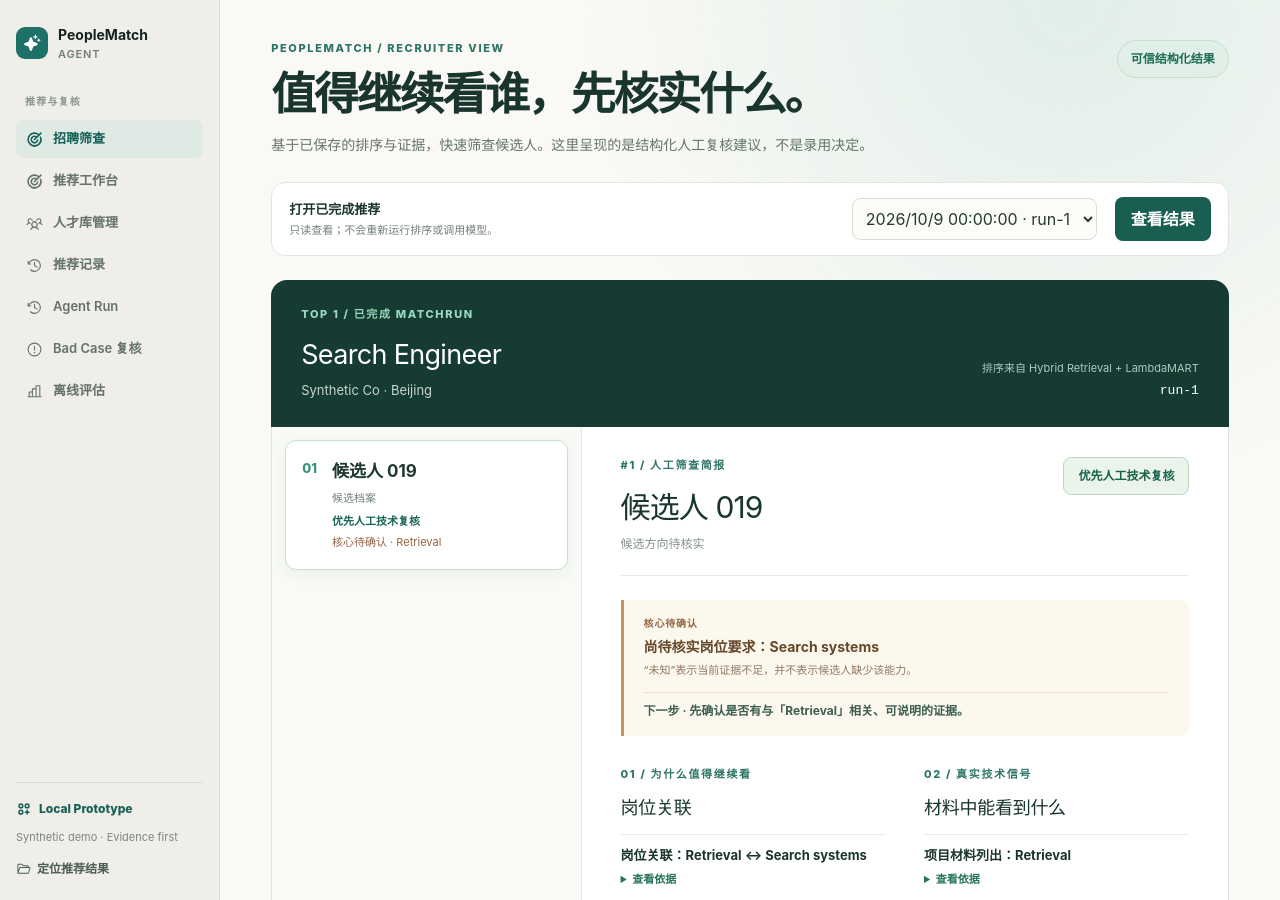
Test: Recruiter View › keeps source drill-down readable when an optional display profile is missing
This screenshot has width=1280, height=900.
Expected: the heading "Search Engineer" is shown, [301, 335, 501, 376]
Step 1. Click the heading "查看依据" below "岗位关联：Retrieval ↔ Search systems" → (654, 879), box [632, 872, 676, 886]
(page scrolled)
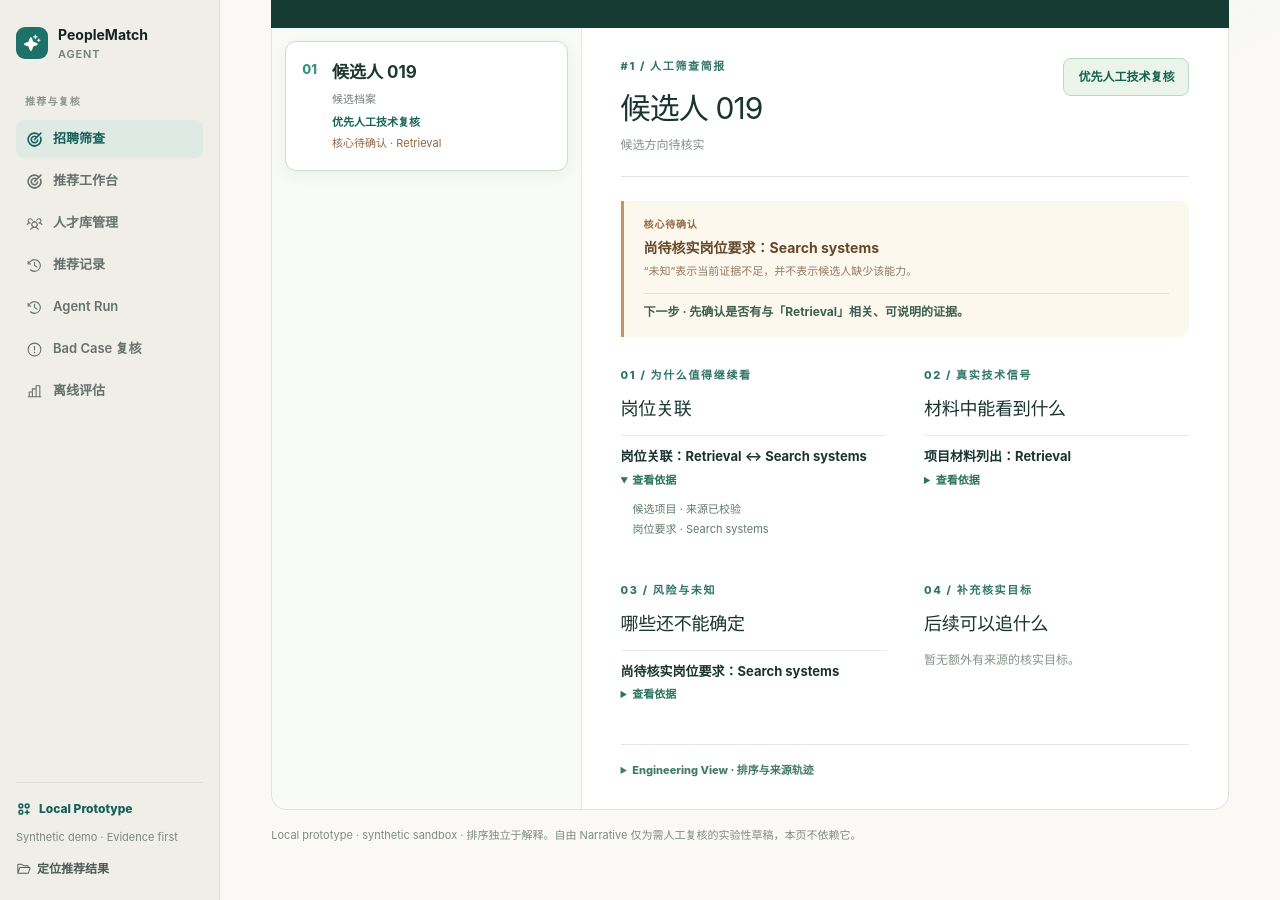
Now the list item "候选项目 · 来源已校验" is shown, box [633, 502, 741, 516]
